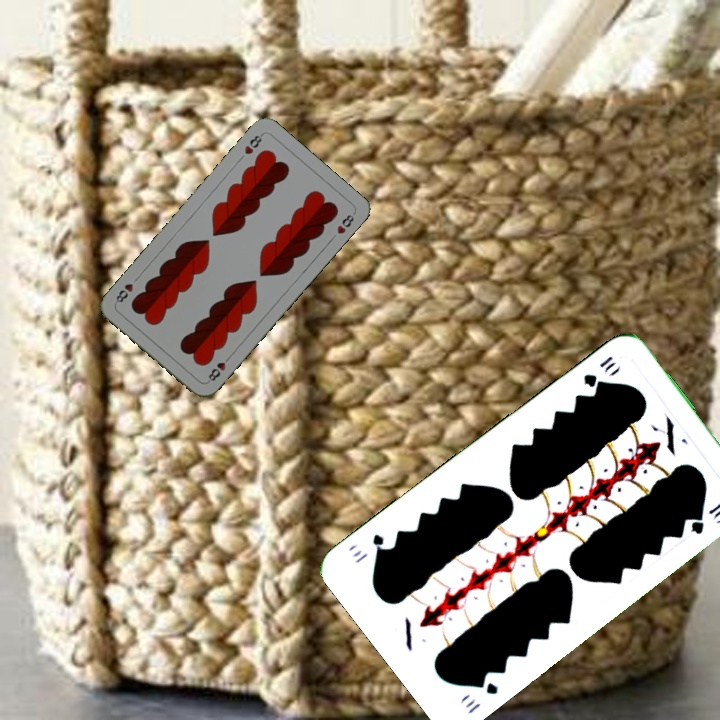G10: (461, 674, 501, 717), (579, 351, 618, 391)
H8: (203, 351, 234, 385), (240, 129, 266, 157)
